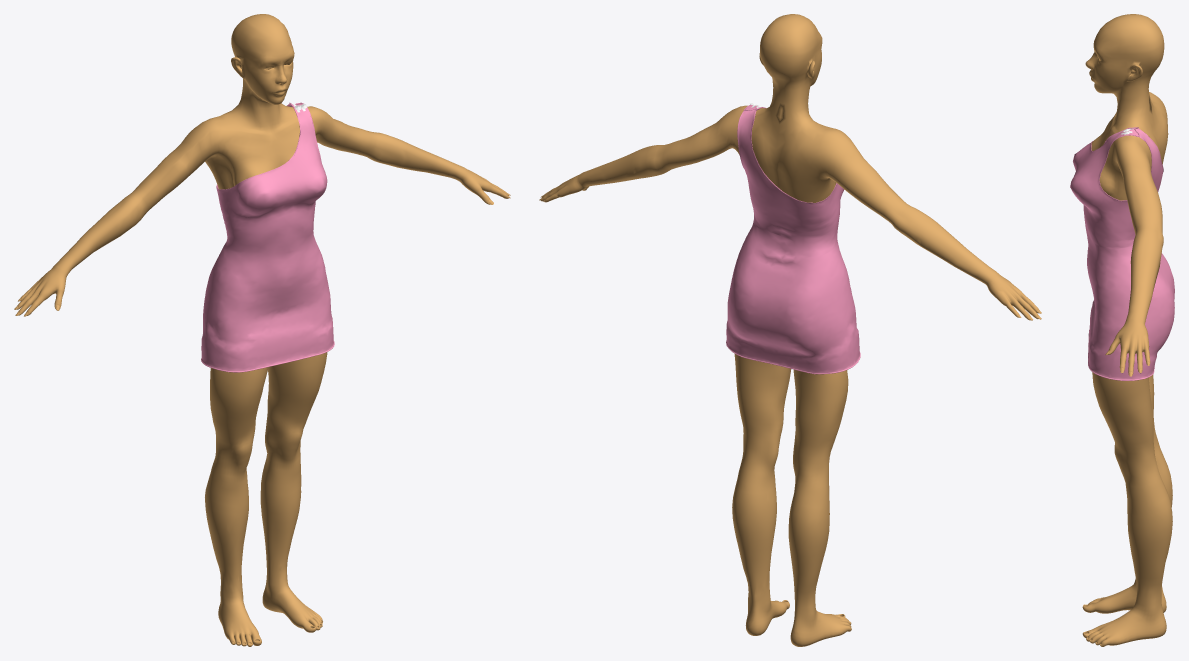
Rendered from dress1.glb.
3 views of the same model, side by side, from view 1: azimuth 30°, elevation 25°; view 2: azimuth 150°, elevation 25°; view 3: azimuth 270°, elevation 25° (orthographic).
Parts seen in each view (by area): view 1: Body, WhiteDress; view 2: Body, WhiteDress; view 3: Body, WhiteDress.
Part boxes in pixels (x1,y1,x2,y2): Body: (16, 14, 510, 646); WhiteDress: (201, 102, 334, 372); Body: (540, 14, 1038, 646); WhiteDress: (726, 103, 860, 374); Body: (1082, 14, 1172, 646); WhiteDress: (1070, 127, 1174, 380).
Bounding box in the file's own units: 1.58 × 1.85 × 0.288.
